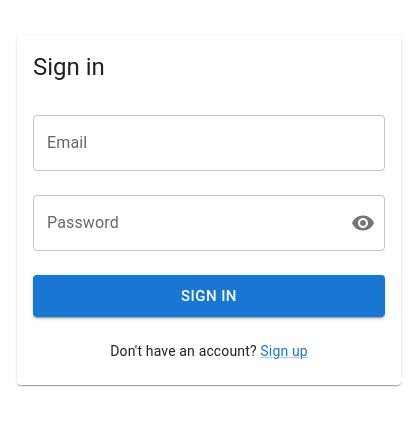
Test: LoginPage › shows required-field errors when submitted empty
The image size is (419, 427).
Click the button "Sign in": (209, 296) [33, 275, 385, 317]
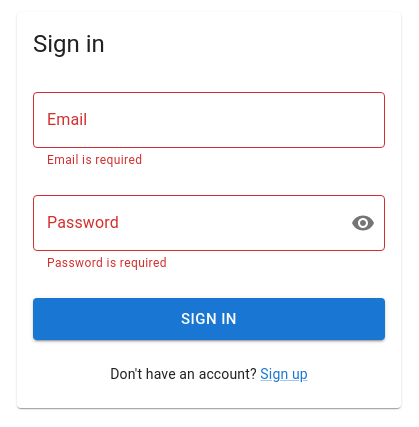
Check: the text "Email is required" is shown, box [47, 153, 142, 167]
Check: the text "Password is required" is shown, box [47, 256, 167, 270]
